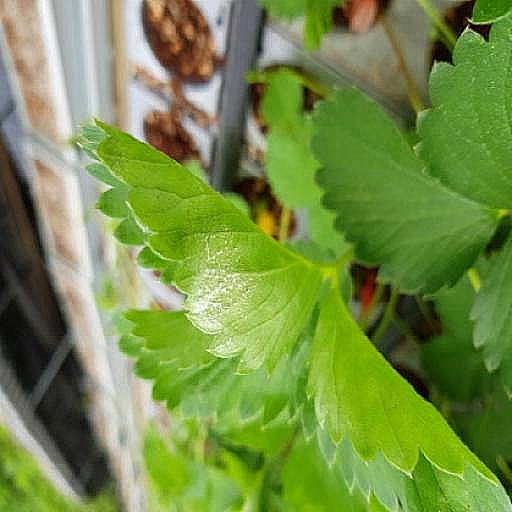Powdery Mildew Leaf: (177, 134, 434, 394)
